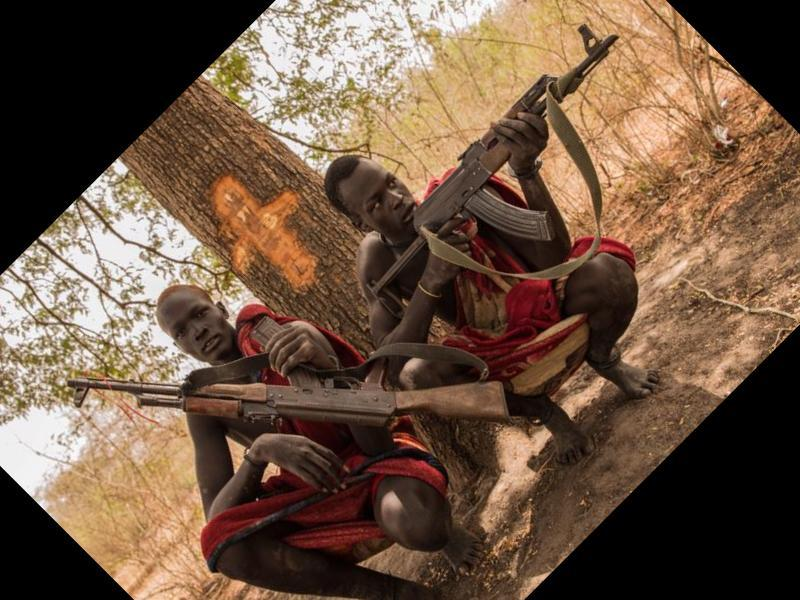larga: (369, 21, 621, 321), (66, 378, 511, 424)
